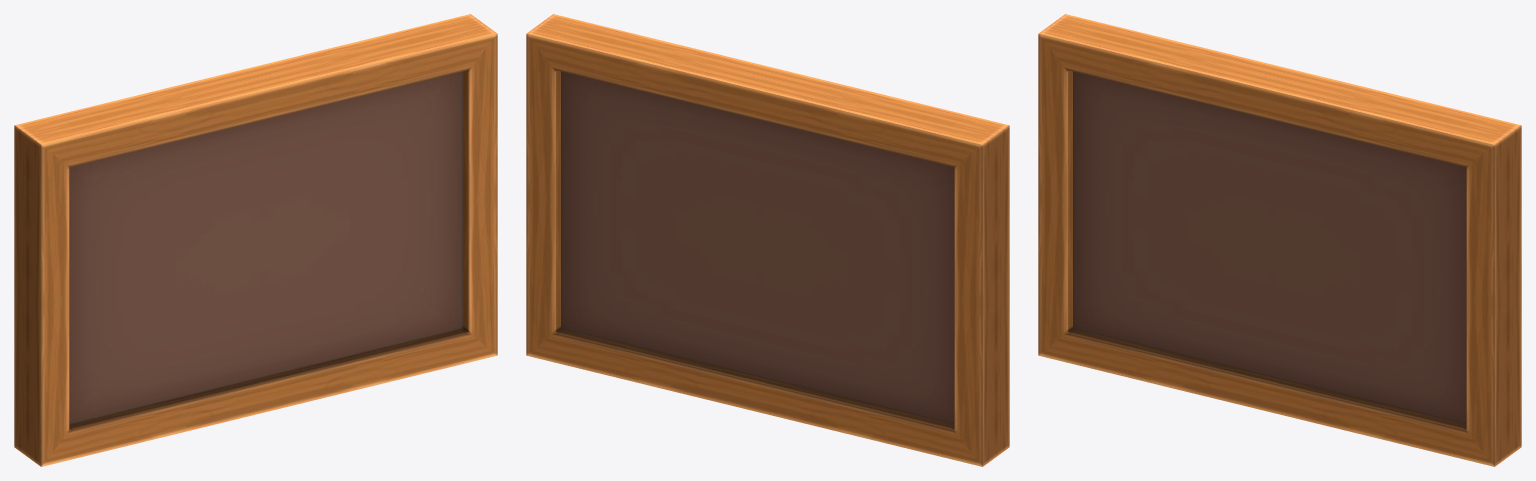
Rendered from workstation_display.glb.
3 renders of one model, left to right at view 1: azimuth 30°, elevation 25°; view 2: azimuth 150°, elevation 25°; view 3: azimuth 330°, elevation 25°, orthographic.
Visible parts, largest first — view 1: obj_queue; view 2: obj_queue; view 3: obj_queue.
Part boxes in pixels (x1=…): obj_queue: x1=14, y1=14, x2=497, y2=466; obj_queue: x1=526, y1=14, x2=1009, y2=466; obj_queue: x1=1038, y1=14, x2=1521, y2=466.
Size of what is drawn, in the model's own units: 0.9677 by 0.6528 by 0.0983.
1 material, 1 textured.
